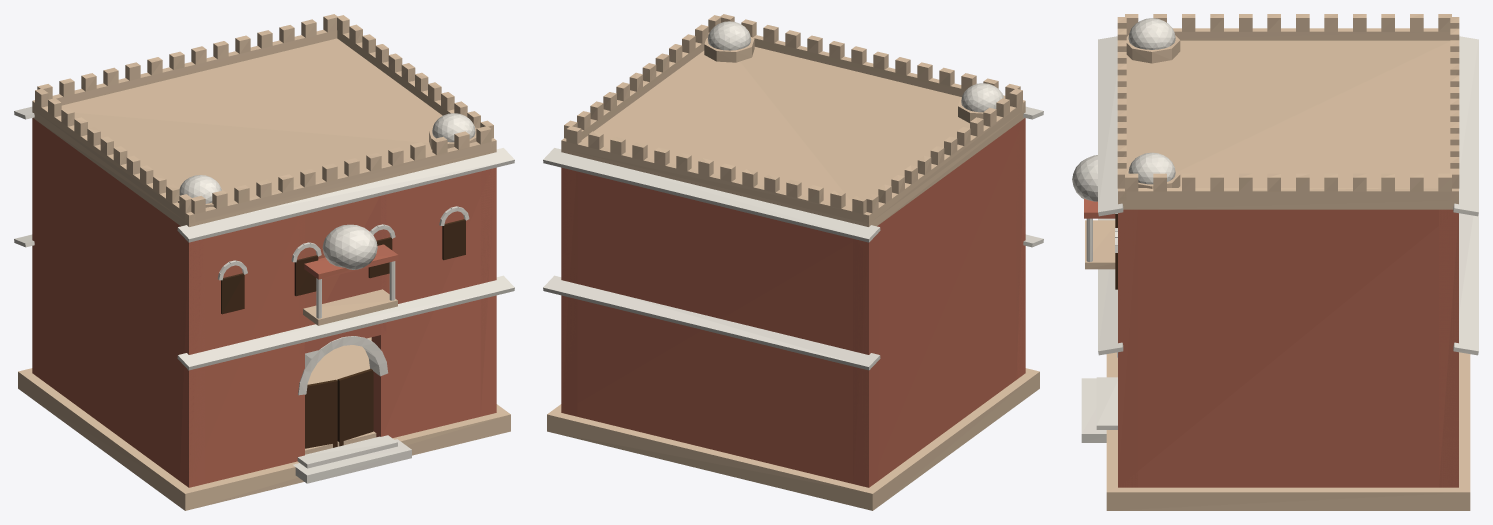
File: rajasthani_haveli.glb
3 views of the same model, side by side, from view 1: azimuth 30°, elevation 25°; view 2: azimuth 150°, elevation 25°; view 3: azimuth 270°, elevation 25° (orthographic). The views are drawn at different scales.
Parts seen in each view (by area): view 1: Facade_primary, Walls, Roof, Parapet, Chhajja, Plinth, Doors, Steps, Windows_trim, JharokhaDome, Floor, Jharokha_secondary (+4 smaller); view 2: Walls, Roof, Parapet, Plinth, Chhajja, Facade_primary, Kiosks_accent, Kiosks_secondary; view 3: Walls, Roof, Parapet, Chhajja, Plinth, Facade_primary, Steps, Kiosks_accent, Jharokha_secondary, Kiosks_secondary, JharokhaDome.
Part boxes in pixels (x1=…): Facade_primary: x1=179, y1=167, x2=496, y2=487; Walls: x1=32, y1=118, x2=496, y2=486; Roof: x1=32, y1=38, x2=496, y2=226; Parapet: x1=32, y1=14, x2=496, y2=223; Chhajja: x1=14, y1=106, x2=514, y2=370; Plinth: x1=18, y1=368, x2=510, y2=510; Doors: x1=305, y1=369, x2=373, y2=448; Steps: x1=293, y1=435, x2=411, y2=483; Windows_trim: x1=221, y1=219, x2=465, y2=314; JharokhaDome: x1=322, y1=224, x2=377, y2=269; Floor: x1=305, y1=337, x2=376, y2=454; Jharokha_secondary: x1=303, y1=289, x2=397, y2=325; Walls: x1=561, y1=118, x2=1025, y2=487; Roof: x1=561, y1=47, x2=1025, y2=226; Parapet: x1=561, y1=14, x2=1025, y2=223; Plinth: x1=547, y1=368, x2=1039, y2=510; Chhajja: x1=543, y1=106, x2=1043, y2=370; Facade_primary: x1=1016, y1=118, x2=1025, y2=379; Kiosks_accent: x1=708, y1=21, x2=1003, y2=112; Kiosks_secondary: x1=704, y1=37, x2=983, y2=123; Walls: x1=1118, y1=209, x2=1458, y2=487; Roof: x1=1118, y1=40, x2=1458, y2=209; Parapet: x1=1117, y1=14, x2=1459, y2=200; Chhajja: x1=1098, y1=36, x2=1478, y2=355; Plinth: x1=1106, y1=352, x2=1470, y2=510; Facade_primary: x1=1118, y1=209, x2=1137, y2=487; Steps: x1=1081, y1=377, x2=1117, y2=442; Kiosks_accent: x1=1128, y1=18, x2=1175, y2=184; Jharokha_secondary: x1=1085, y1=220, x2=1115, y2=269; Kiosks_secondary: x1=1126, y1=35, x2=1180, y2=188; JharokhaDome: x1=1072, y1=155, x2=1097, y2=201.
Size of the model in its own units: 9 by 8.17 by 8.95.
